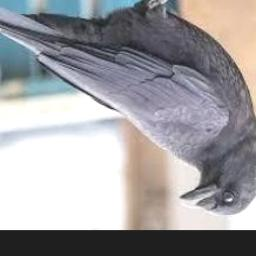Crow: (0, 0, 256, 215)
